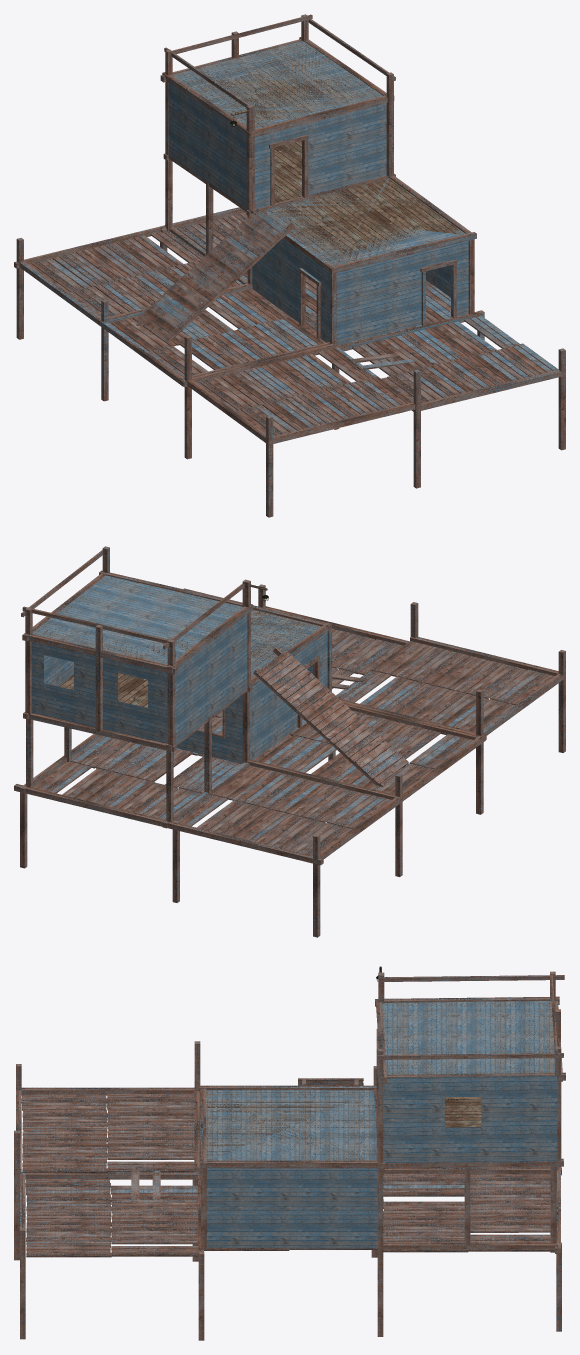
File: RiverSide.fbx
The picture shows the model from 3 angles, top to bottom: view 1: azimuth 30°, elevation 25°; view 2: azimuth 150°, elevation 25°; view 3: azimuth 270°, elevation 25°; orthographic projection. The views are drawn at different scales.
Parts seen in each view (by area): view 1: Group1; view 2: Group1; view 3: Group1.
Boxes of the visible parts, x1,y1,x2,y2 form: Group1: [14, 14, 565, 517]; Group1: [14, 546, 565, 937]; Group1: [14, 966, 565, 1340].
Size of the model in its own units: 3964 by 3242 by 5650.
